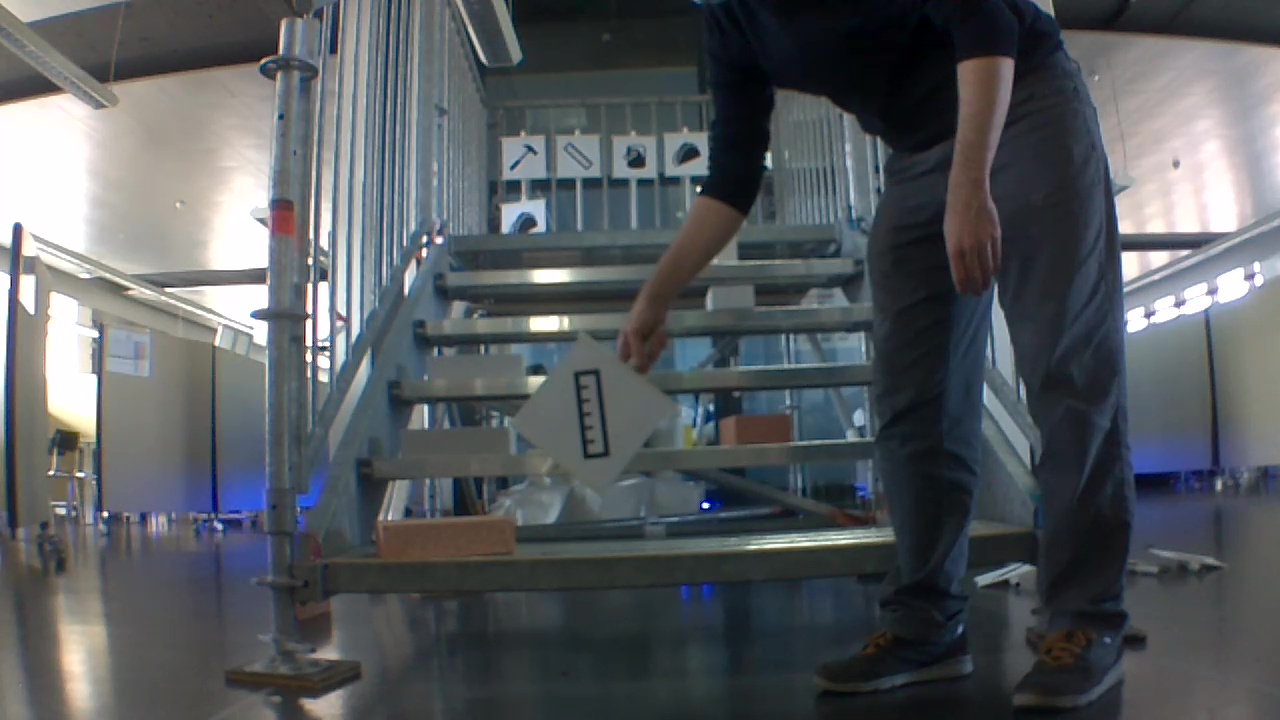brick: (382, 512, 519, 556), (400, 425, 510, 456), (721, 408, 790, 446), (429, 351, 534, 371), (702, 283, 757, 313)
bucket: (620, 138, 650, 173)
hammer: (507, 140, 541, 172)
ruler: (556, 368, 626, 465), (561, 139, 596, 169)
taco: (671, 138, 702, 168), (511, 207, 538, 239)
